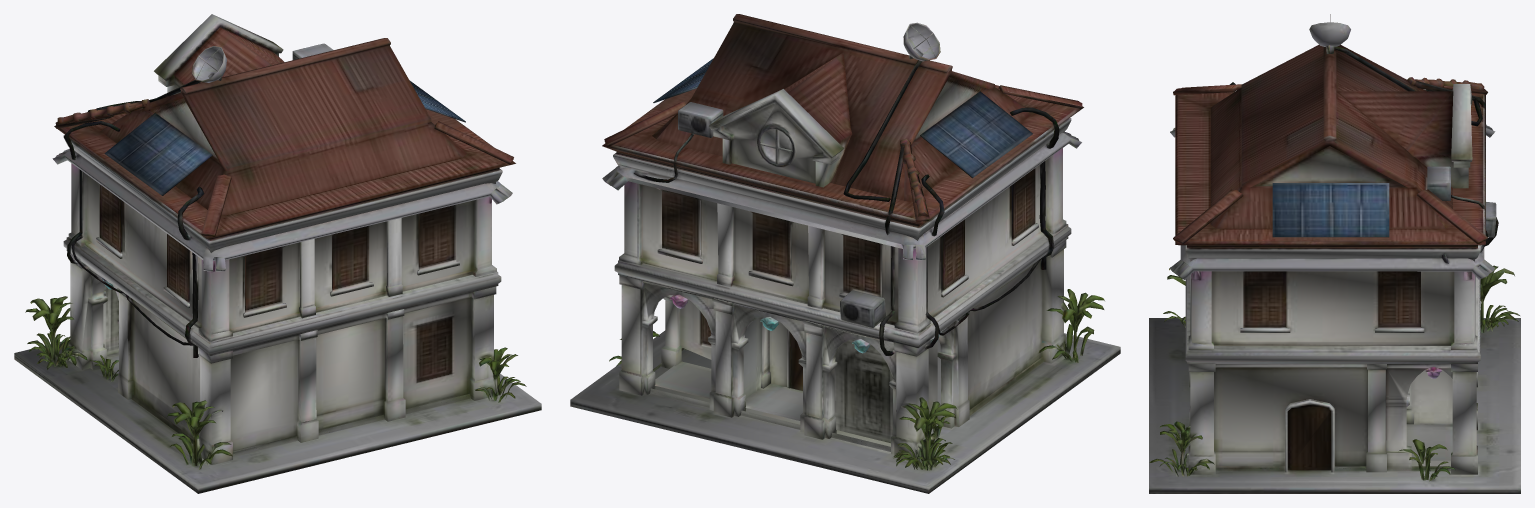
The model's file is city_colonial.glb.
3 views of the same model, side by side, from view 1: azimuth 30°, elevation 25°; view 2: azimuth 150°, elevation 25°; view 3: azimuth 270°, elevation 25° (orthographic). The views are drawn at different scales.
Parts seen in each view (by area): view 1: Body; view 2: Body; view 3: Body.
Part boxes in pixels (x1,y1,x2,y2): Body: (14,14,541,493); Body: (570,14,1120,493); Body: (1149,14,1520,493).
Bounding box in the file's own units: 24 × 23.53 × 22.03.
1 material, 1 textured.
